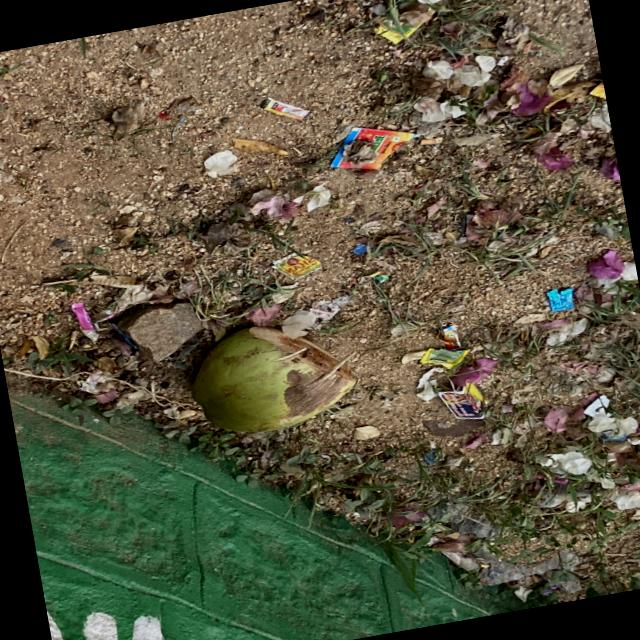giay_goi: (330, 125, 414, 169), (438, 383, 484, 419), (272, 252, 321, 279), (259, 96, 310, 119), (420, 348, 469, 369), (546, 287, 574, 311)
rac_huu_co: (190, 326, 356, 432)
